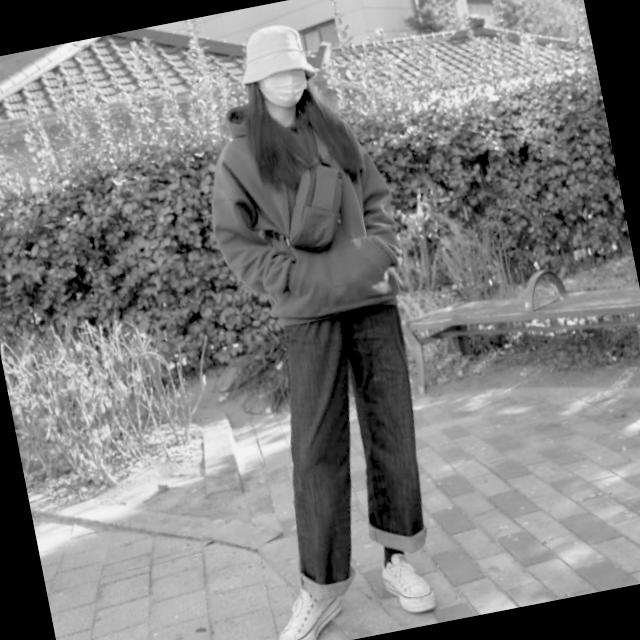denimpants: (248, 296, 446, 594)
hoodies: (199, 85, 420, 337)
